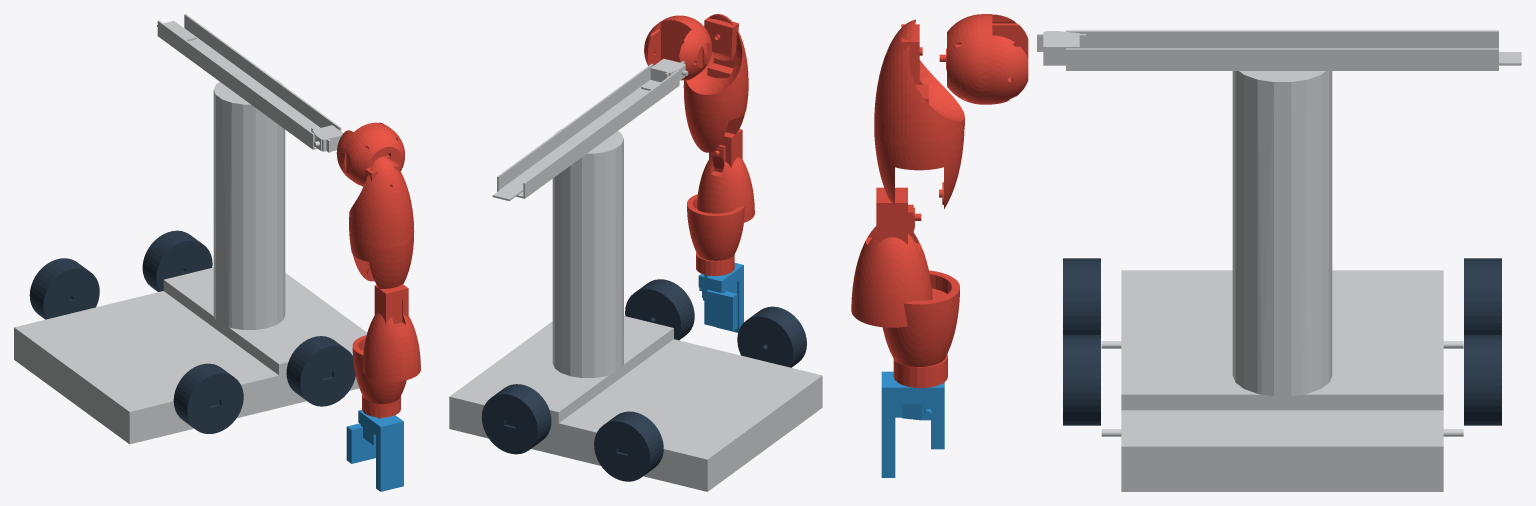
File: ardop_description.rounded.dae
The picture shows the model from 3 angles, left to right: view 1: azimuth 30°, elevation 25°; view 2: azimuth 150°, elevation 25°; view 3: azimuth 270°, elevation 25°; orthographic projection. The views are drawn at different scales.
Visible parts, largest first — view 1: base_link, lower_1_link, upper_1_link, wheel_back_right_link, wheel_front_right_link, wheel_back_left_link, shoulder_1_link, wheel_front_left_link, upper_2_link, lower_3_link, lower_2_link, end_effector_link; view 2: base_link, wheel_back_left_link, wheel_front_left_link, upper_1_link, lower_1_link, wheel_back_right_link, lower_2_link, shoulder_1_link, wheel_front_right_link, upper_2_link, end_effector_link, lower_3_link; view 3: base_link, lower_1_link, upper_1_link, shoulder_1_link, lower_2_link, upper_2_link, wheel_front_left_link, wheel_front_right_link, lower_3_link, wheel_back_left_link, wheel_back_right_link.
Part boxes in pixels (x1,y1,x2,y2): base_link: [14, 14, 366, 444]; lower_1_link: [362, 284, 420, 381]; upper_1_link: [349, 157, 413, 243]; wheel_back_right_link: [173, 363, 243, 433]; wheel_front_right_link: [286, 336, 355, 406]; wheel_back_left_link: [29, 258, 99, 319]; shoulder_1_link: [336, 122, 404, 186]; wheel_front_left_link: [142, 230, 212, 291]; upper_2_link: [349, 230, 414, 288]; lower_3_link: [358, 409, 403, 491]; lower_2_link: [352, 335, 406, 418]; end_effector_link: [346, 423, 375, 463]; base_link: [449, 58, 822, 491]; wheel_back_left_link: [594, 411, 663, 481]; wheel_front_left_link: [481, 384, 551, 454]; upper_1_link: [683, 14, 748, 102]; lower_1_link: [697, 129, 754, 222]; wheel_back_right_link: [737, 306, 806, 367]; lower_2_link: [687, 194, 744, 275]; shoulder_1_link: [644, 15, 711, 80]; wheel_front_right_link: [625, 279, 694, 340]; upper_2_link: [684, 89, 748, 152]; end_effector_link: [704, 274, 737, 331]; lower_3_link: [698, 263, 743, 332]; base_link: [1037, 30, 1521, 491]; lower_1_link: [851, 187, 932, 327]; upper_1_link: [874, 19, 964, 142]; shoulder_1_link: [939, 14, 1028, 104]; lower_2_link: [882, 270, 959, 387]; upper_2_link: [874, 126, 964, 208]; wheel_front_left_link: [1464, 335, 1501, 425]; wheel_front_right_link: [1063, 335, 1100, 425]; lower_3_link: [881, 371, 944, 477]; wheel_back_left_link: [1464, 258, 1501, 334]; wheel_back_right_link: [1063, 258, 1100, 334].
Bounding box in the file's own units: 0.46 × 0.7387 × 0.5633.
